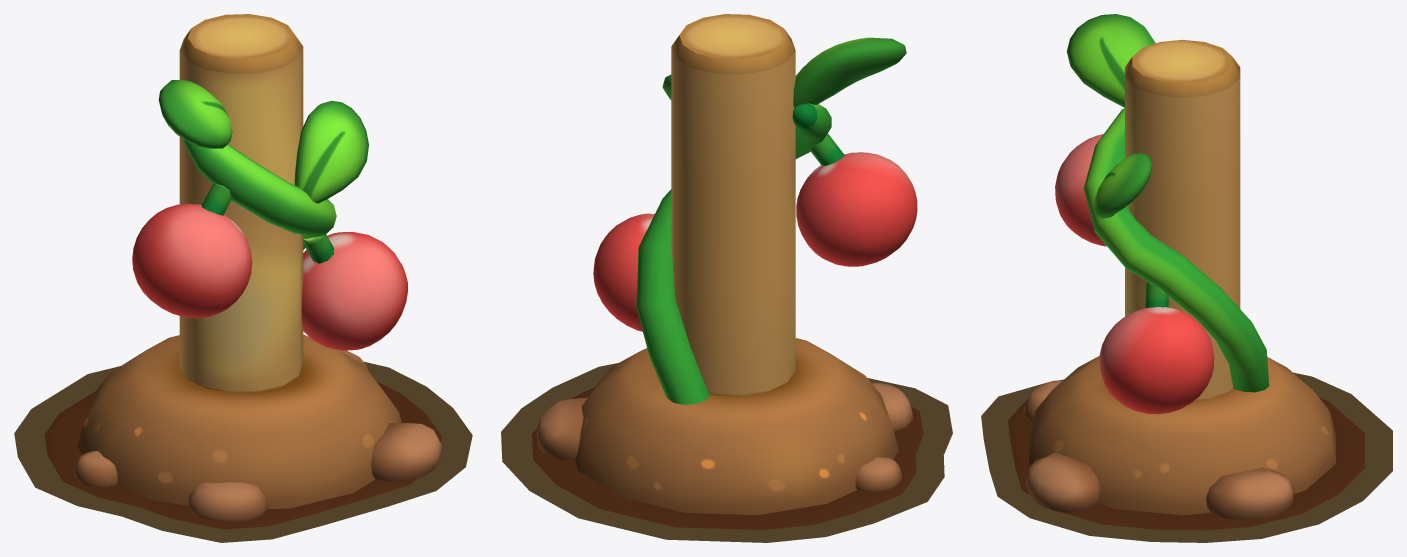
The model's file is Tomato_L02.fbx.
3 views of the same model, side by side, from view 1: azimuth 30°, elevation 25°; view 2: azimuth 150°, elevation 25°; view 3: azimuth 270°, elevation 25° (orthographic). The views are drawn at different scales.
Parts seen in each view (by area): view 1: Tomato02_body, Tomato02SDW; view 2: Tomato02_body, Tomato02SDW; view 3: Tomato02_body, Tomato02SDW.
Part boxes in pixels (<box>): Tomato02_body: <box>44,14,441,529</box>; Tomato02SDW: <box>14,361,472,542</box>; Tomato02_body: <box>532,14,923,529</box>; Tomato02SDW: <box>501,363,952,542</box>; Tomato02_body: <box>1008,14,1364,530</box>; Tomato02SDW: <box>981,372,1392,542</box>.
Bounding box in the file's own units: 111 × 109 × 104.
2 materials, 1 textured.
